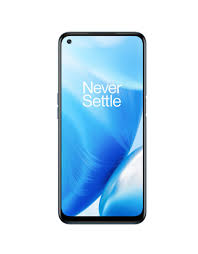Smart Phone: (51, 28, 157, 228)
